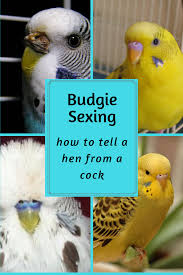budgie: (3, 144, 77, 275), (94, 154, 175, 263), (20, 6, 90, 84), (113, 19, 183, 90)
